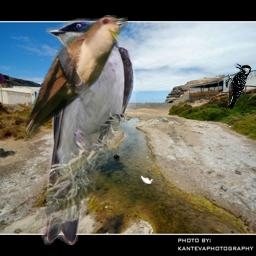Cuckoo: (20, 15, 128, 141)
Swallow: (38, 18, 136, 245)
Woodpecker: (225, 63, 252, 109)
